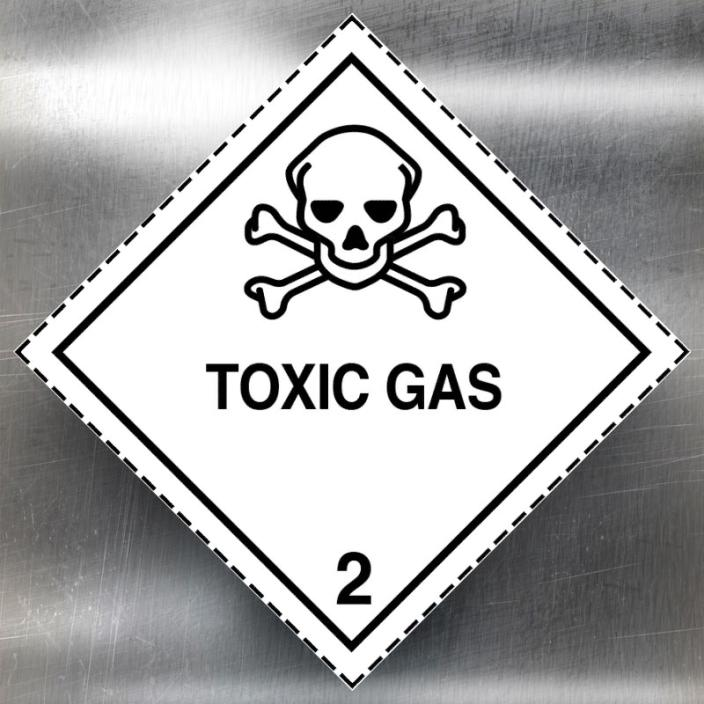camera: (18, 16, 686, 686)
